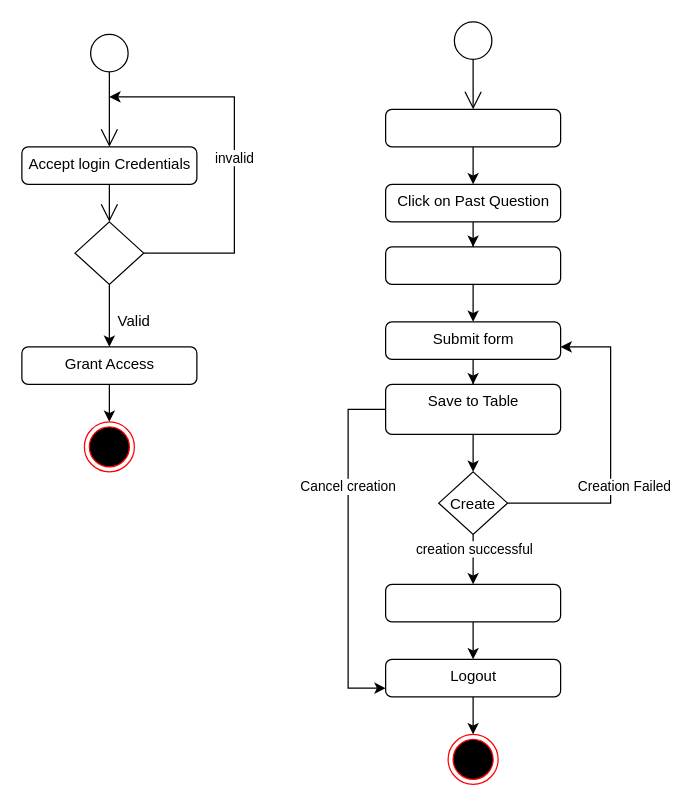
This 693x806 diagram has some shape labels left out. Each missing label, with the centre of its shape:
Display All past questions: the point at 472,602
Fill form: the point at 472,265
Login: the point at 472,127
